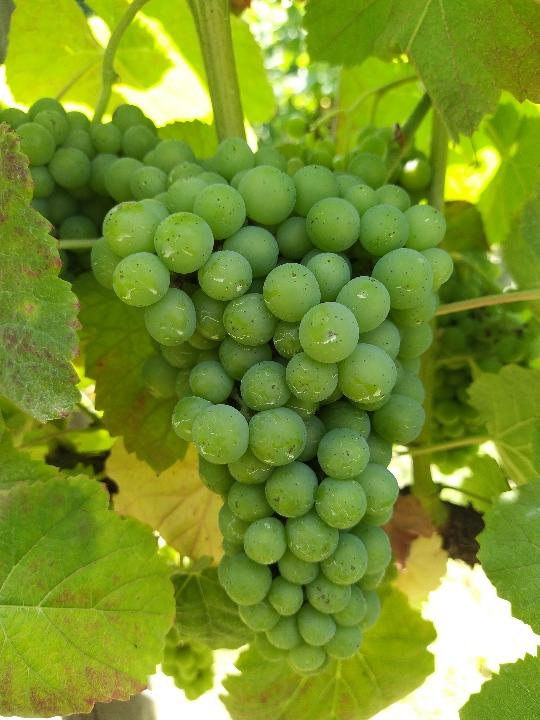grape: (87, 163, 458, 676)
